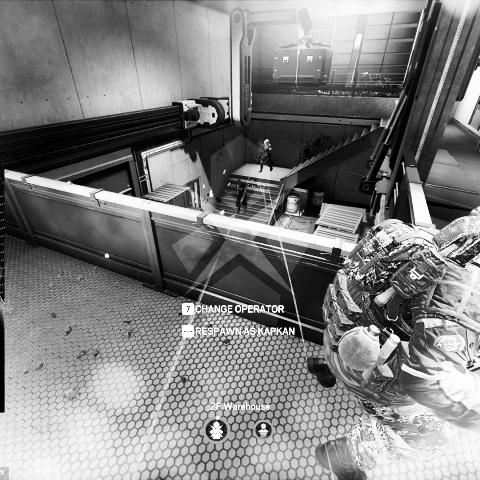Character: (307, 205, 480, 480), (259, 138, 274, 174), (234, 179, 248, 212)
Head: (264, 139, 270, 145), (236, 179, 242, 185)
